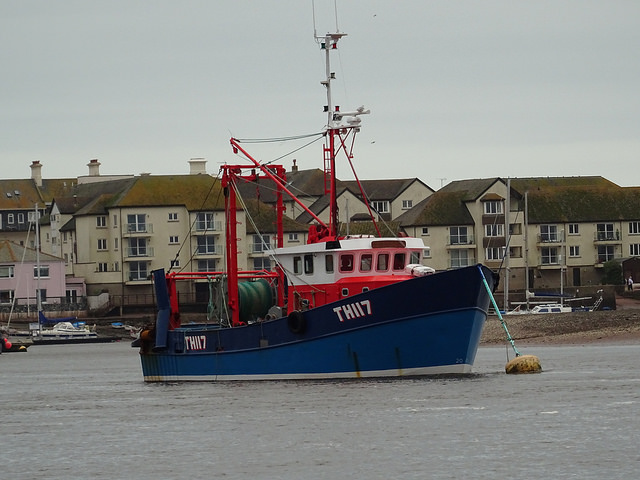fishing_boat: (132, 5, 518, 383)
